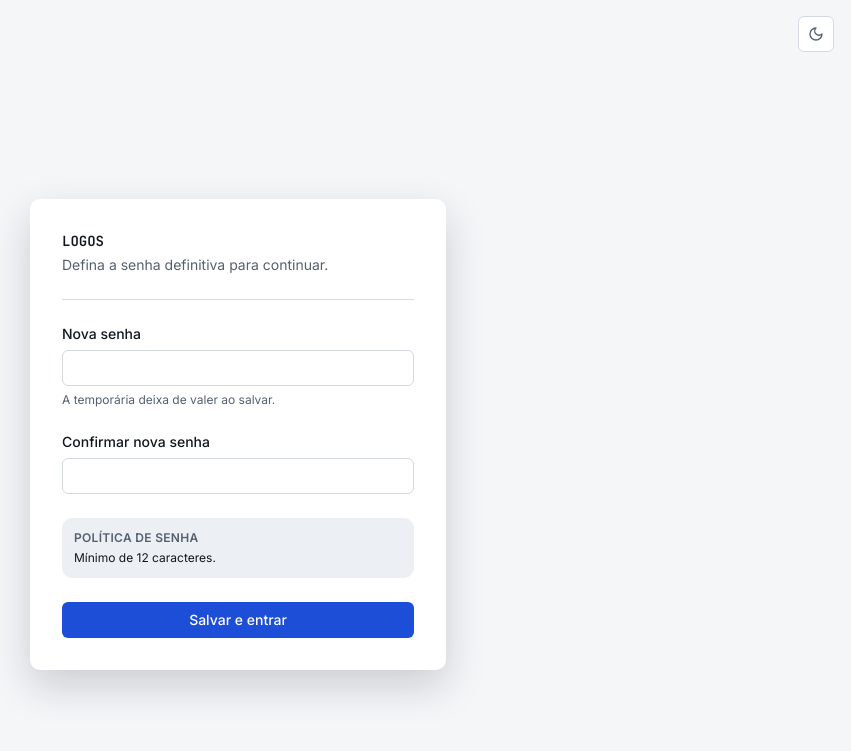
ChangePasswordScreen › mostra o mínimo exigido quando a API recusa a senha (WEAK_PASSWORD)
Type "123456789012" into the password field labelled "Nova senha" at (238, 368), box [62,350,414,386]
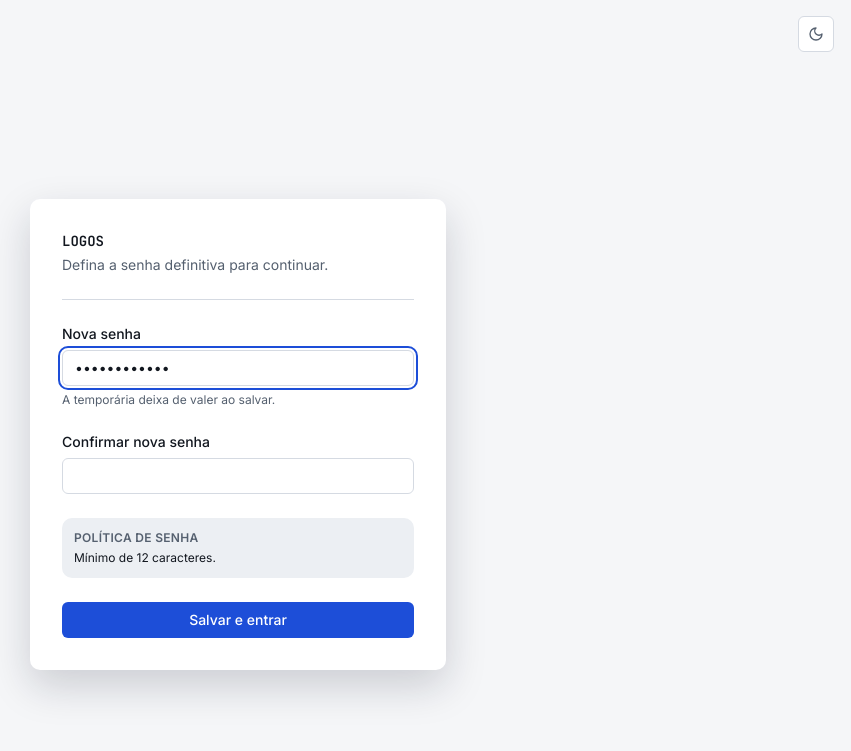
Type "123456789012" into the password field labelled "Confirmar nova senha" at (238, 476), box [62,458,414,494]
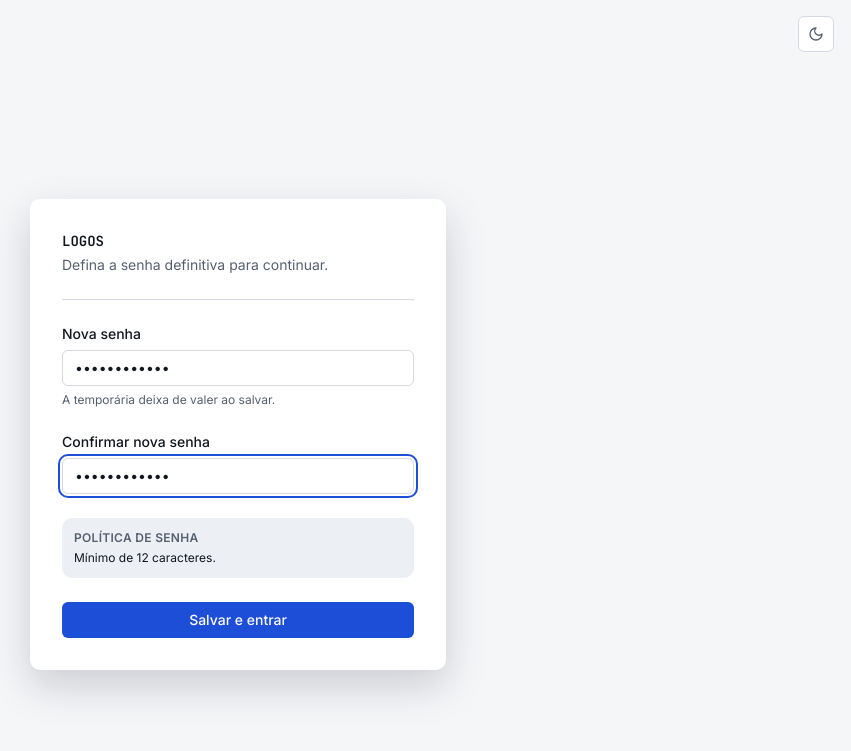
Click the button "Salvar e entrar" at (238, 620), box [62,602,414,638]
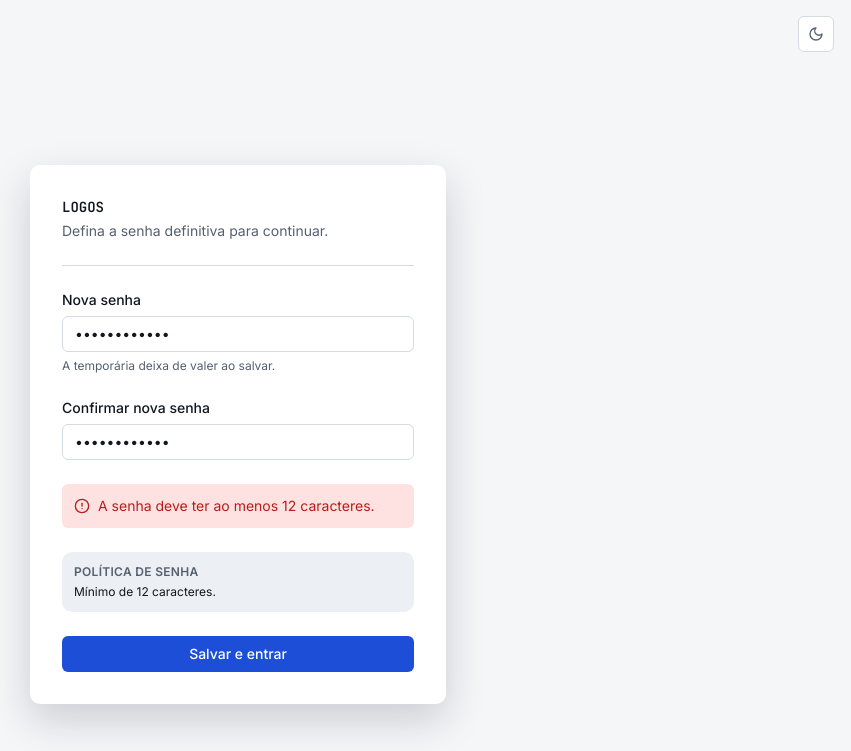
Now the message reads "A senha deve ter ao menos 12 caracteres.", box [98,496,375,514]
